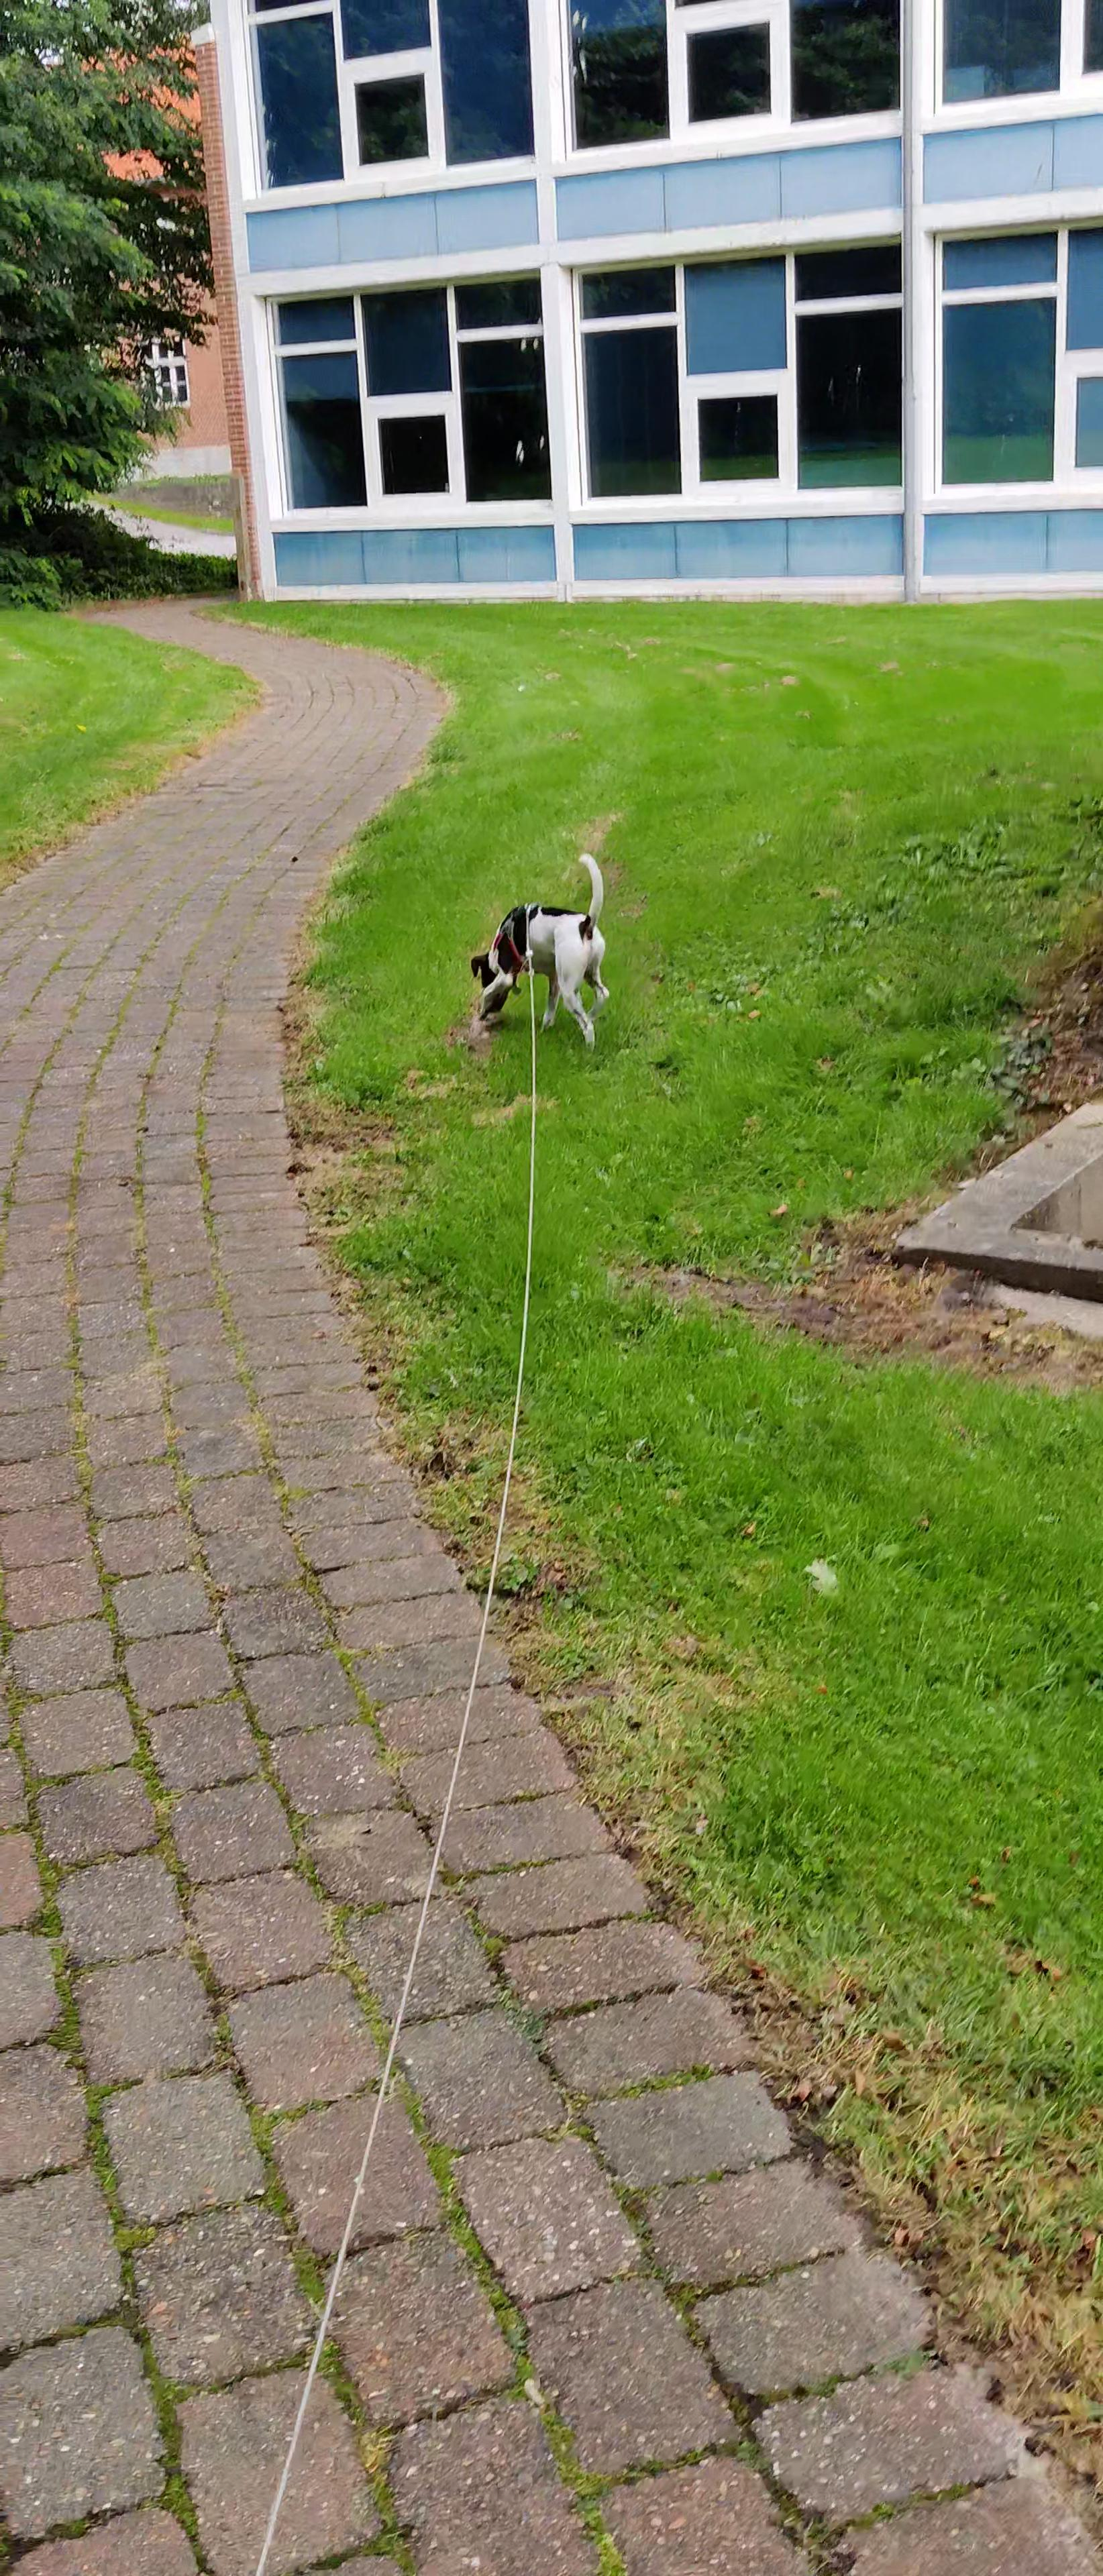Dog: (460, 841, 621, 1061)
